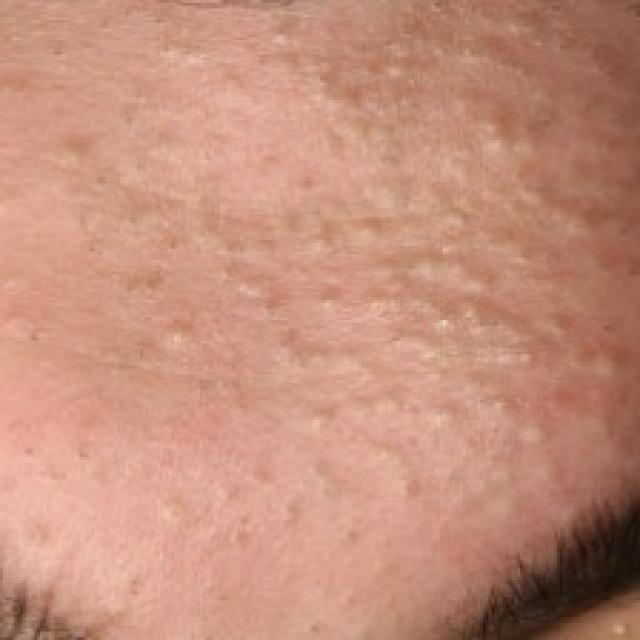fungal: (4, 92, 617, 543)
